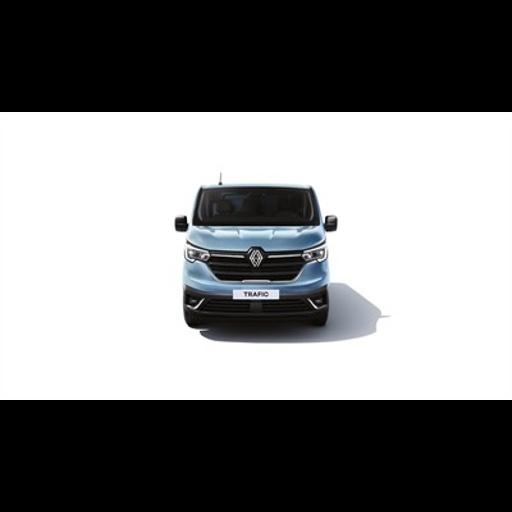van: (176, 186, 336, 325)
